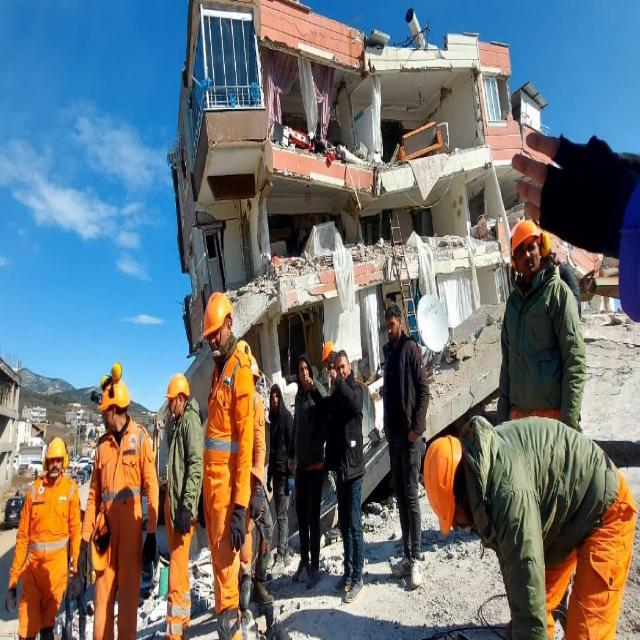Reflective-Jacket: (202, 344, 259, 514), (91, 419, 148, 556), (19, 473, 77, 586), (424, 433, 462, 532)
Safety-Helmet: (424, 432, 463, 534), (417, 290, 450, 352), (202, 287, 234, 335), (508, 216, 542, 259), (98, 377, 132, 411), (166, 368, 191, 401), (43, 433, 68, 462), (111, 358, 124, 382), (540, 229, 552, 254)
